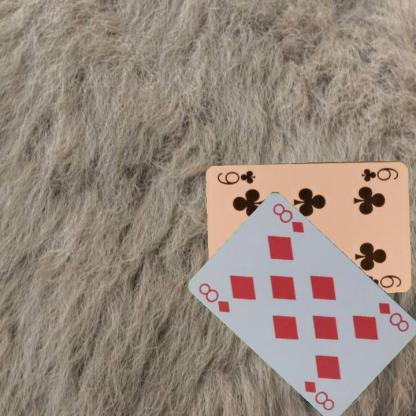6c: (359, 165, 400, 182)
8d: (196, 280, 232, 314), (376, 300, 411, 334)
